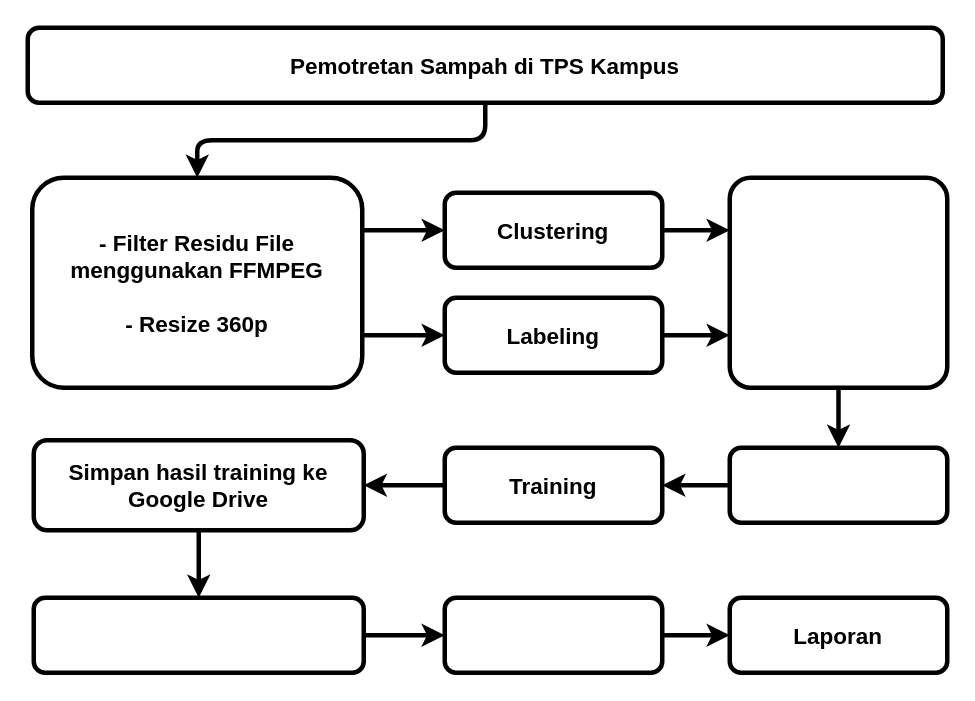
This 975x701 diagram has some shape labels left out. The centre of each missing label's shape, as x and y in pixels:
"Analisis Hasil Training" belongs at [198,634].
"Google Colab" belongs at [838,484].
"Kesimpulan" belongs at [553,634].
"Simpan data ke Google Drive" belongs at [838,282].
